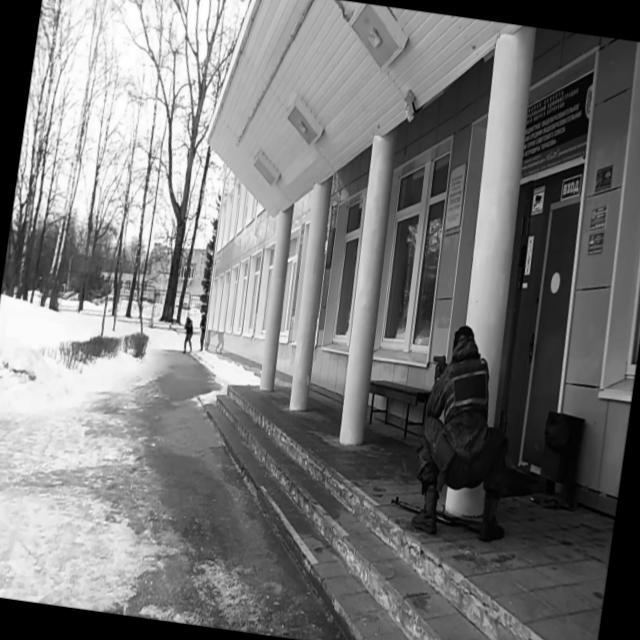gun: (388, 494, 487, 536), (431, 350, 448, 378)
person: (180, 315, 197, 356), (196, 314, 210, 354)
person with a gun: (405, 320, 535, 545)
